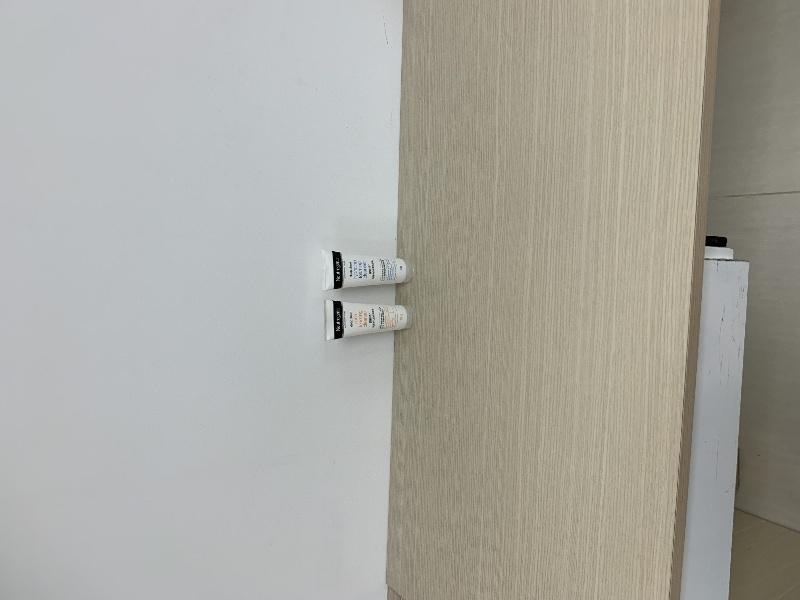AcneFoamingCleanser: (324, 299, 412, 342)
HydratingFoamingCleanser: (320, 249, 415, 292)
